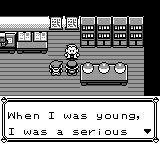leer: (17, 32, 47, 53), (49, 16, 78, 31), (0, 33, 16, 53)
main: (65, 60, 79, 76)
no-caminable: (0, 0, 159, 96), (81, 16, 143, 47), (81, 63, 128, 86), (0, 17, 48, 32)
npc: (64, 44, 80, 60), (49, 60, 64, 76)
poke-ball: (82, 62, 94, 74), (98, 62, 110, 74), (114, 62, 126, 74)
texto: (0, 96, 159, 144)
